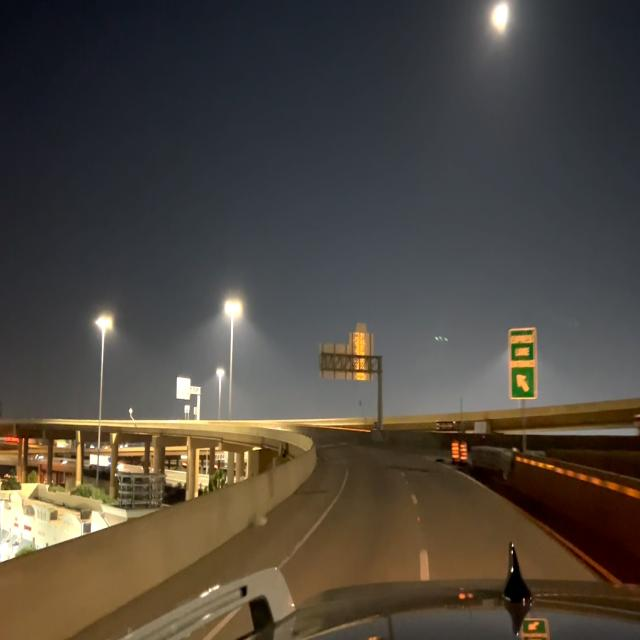back-of-sign: (321, 325, 374, 379)
